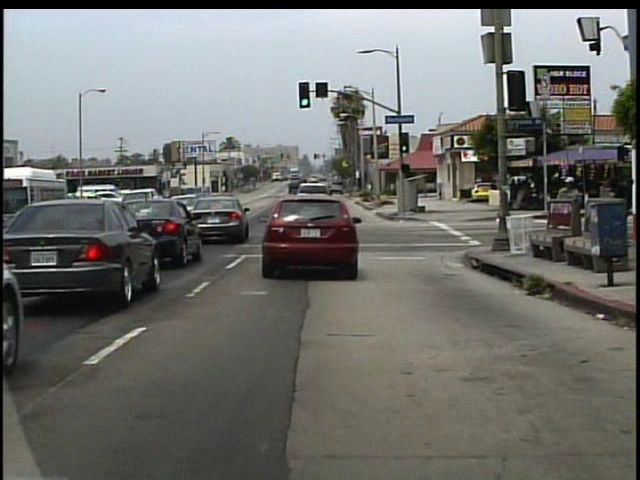person: (554, 172, 586, 253), (487, 177, 500, 207)
